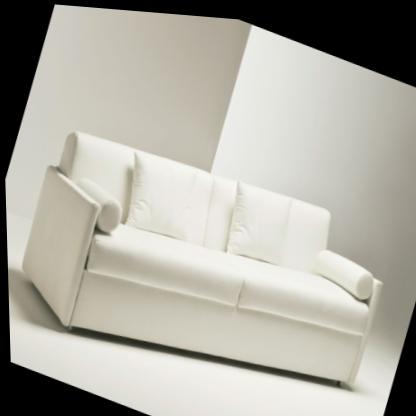Sofa: (4, 103, 399, 416)
